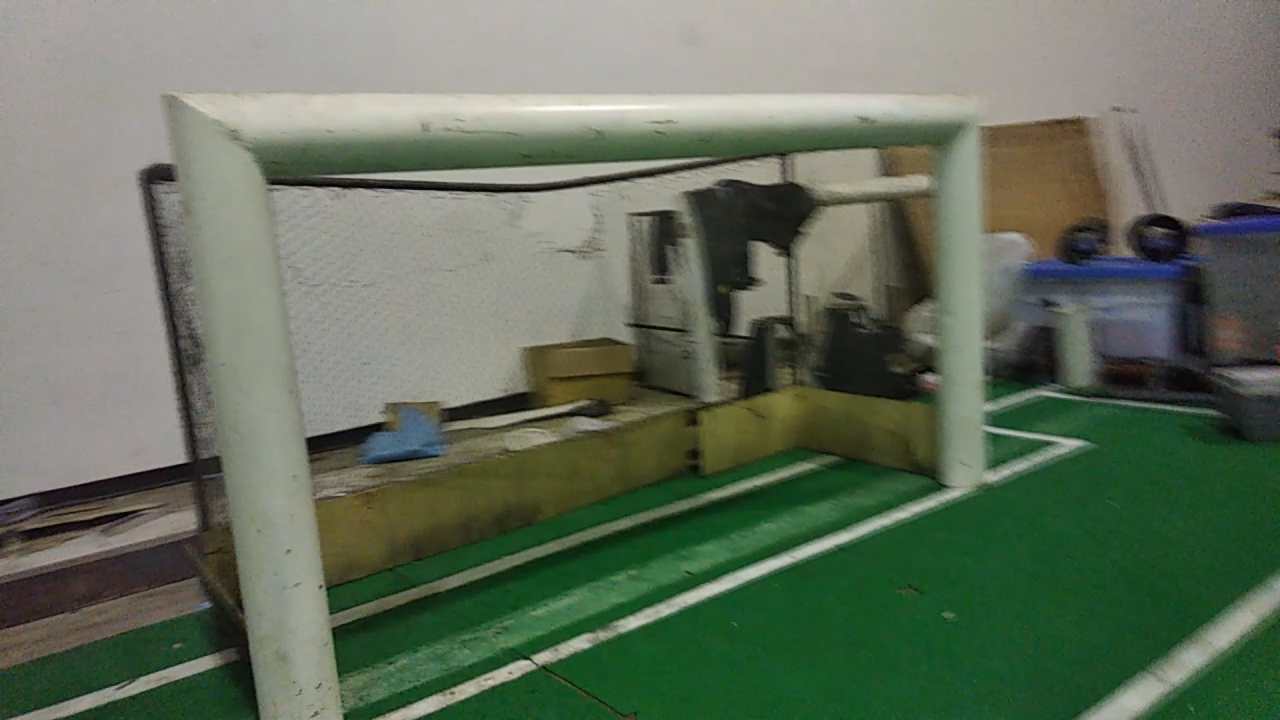gawang: (148, 75, 998, 717)
